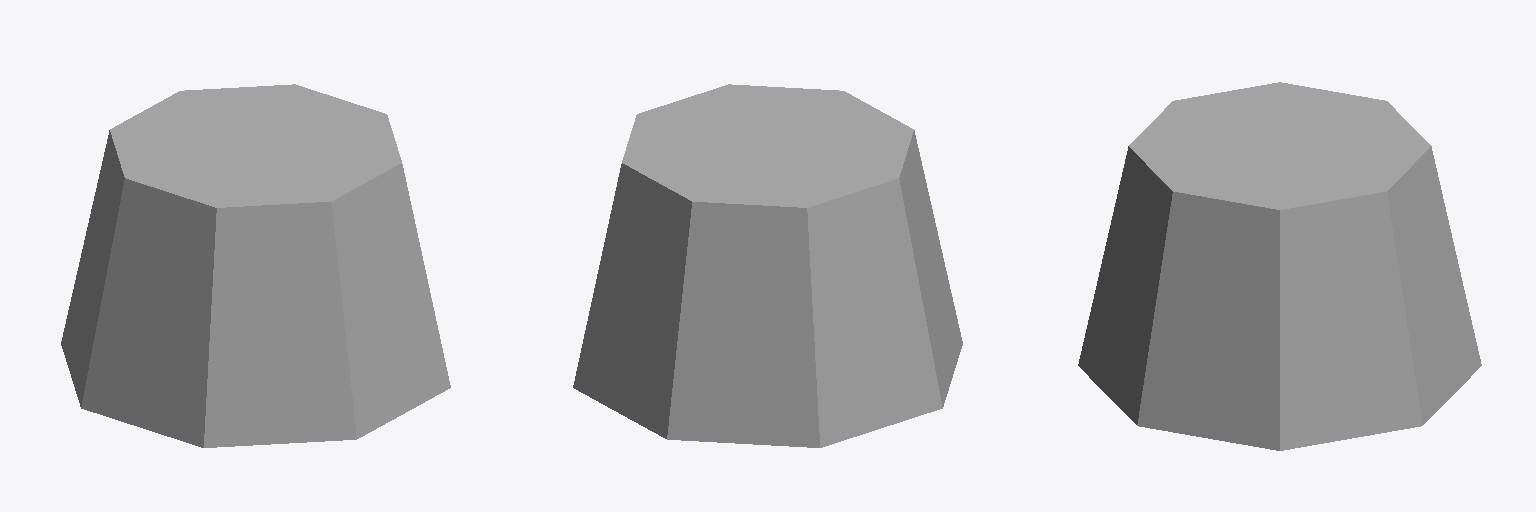
File: Base_Mount.obj
3 renders of one model, left to right at view 1: azimuth 30°, elevation 25°; view 2: azimuth 150°, elevation 25°; view 3: azimuth 270°, elevation 25°, orthographic.
Visible parts, largest first — view 1: Cylinder; view 2: Cylinder; view 3: Cylinder.
Boxes of the visible parts, <box> form: Cylinder: <box>61,84,450,447</box>; Cylinder: <box>573,84,962,447</box>; Cylinder: <box>1078,82,1481,450</box>.
Size of the model in its own units: 1 by 0.6 by 1.